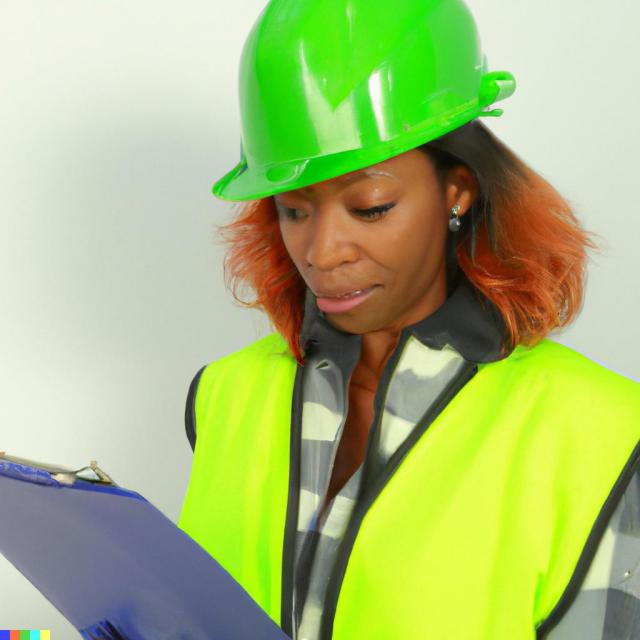Reflective-Jacket: (163, 313, 640, 639)
Safety-Helmet: (208, 5, 517, 201)
